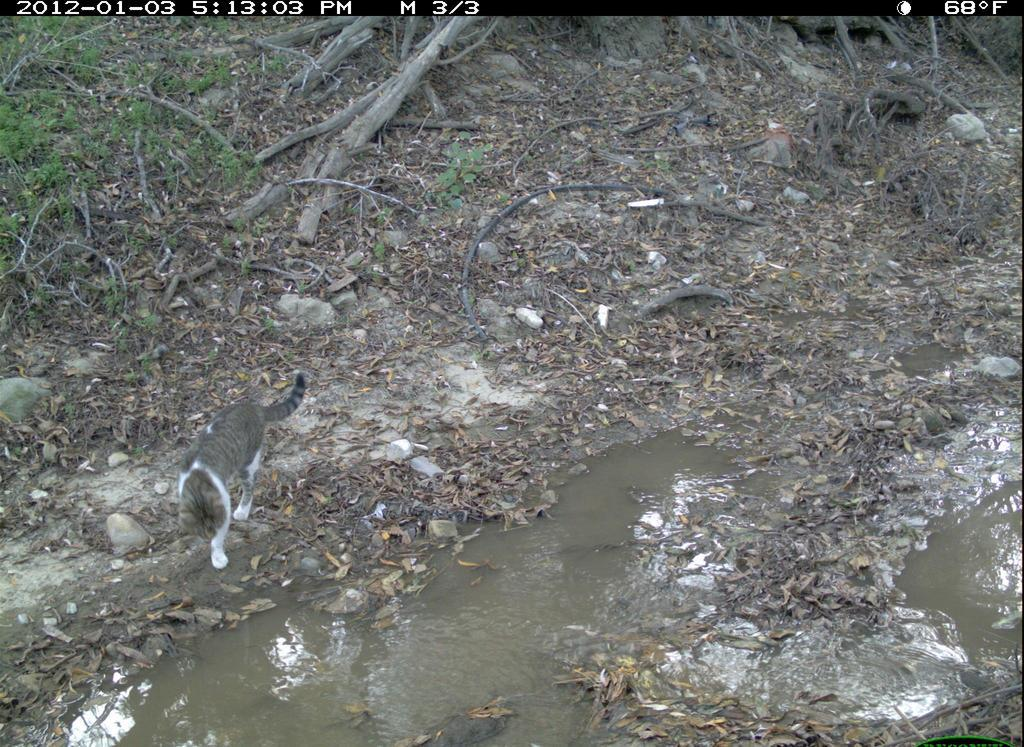cat: (168, 367, 321, 580)
